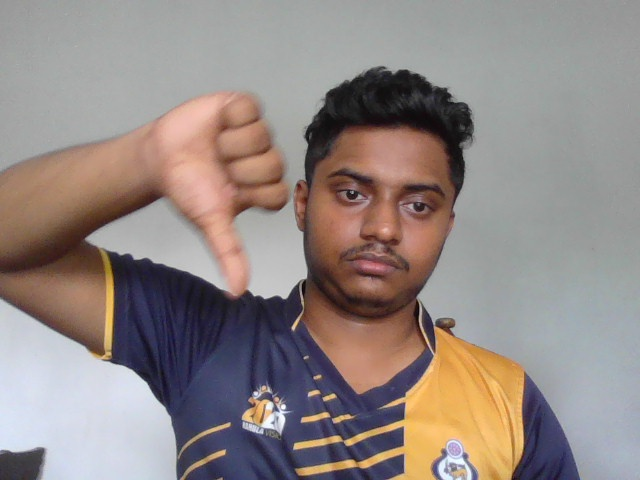Disagree: (154, 85, 293, 297)
